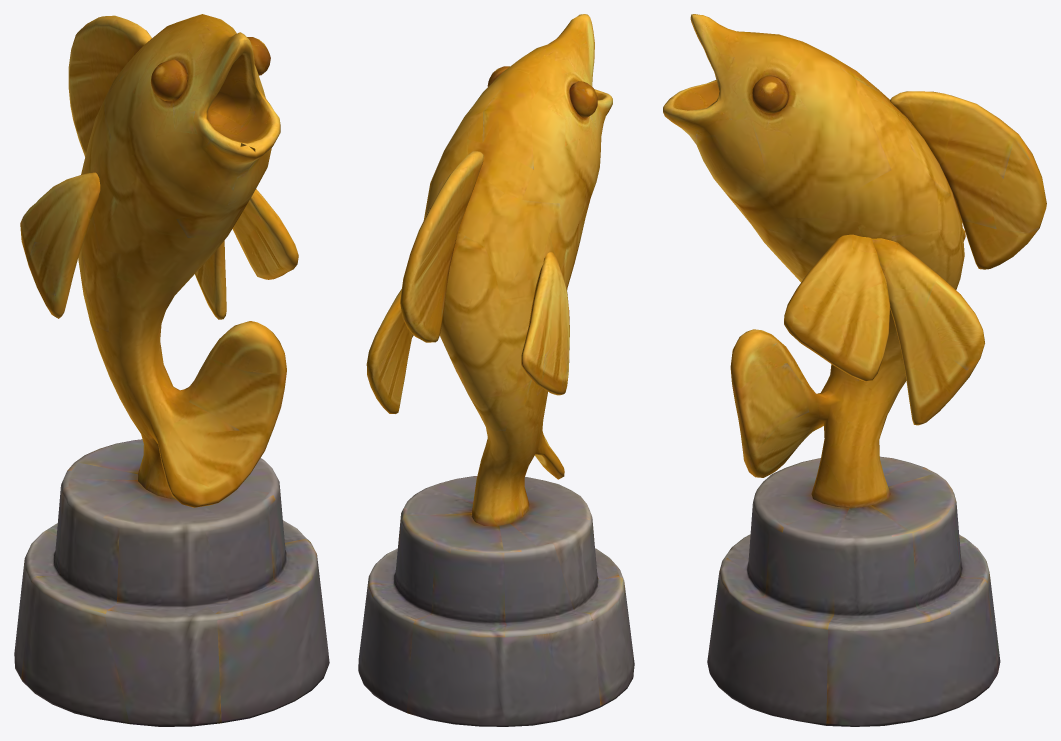
The model's file is trophy.glb.
3 views of the same model, side by side, from view 1: azimuth 30°, elevation 25°; view 2: azimuth 150°, elevation 25°; view 3: azimuth 270°, elevation 25° (orthographic). The views are drawn at different scales.
Bounding box in the file's own units: 0.418 × 1 × 0.5408.
Materials: 1 (1 with a texture image).
